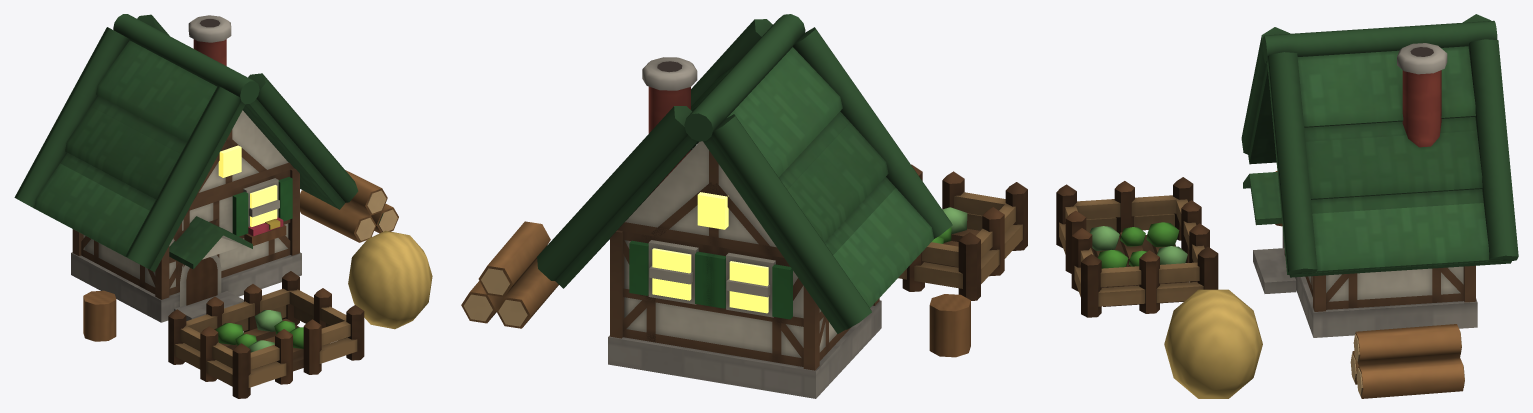
Rendered from homestead_green.glb.
The picture shows the model from 3 angles, left to right: view 1: azimuth 30°, elevation 25°; view 2: azimuth 150°, elevation 25°; view 3: azimuth 270°, elevation 25°; orthographic projection. The views are drawn at different scales.
Visible parts, largest first — view 1: homestead_green; view 2: homestead_green; view 3: homestead_green.
Boxes of the visible parts, bbox=[...] form: homestead_green: bbox=[14, 14, 432, 398]; homestead_green: bbox=[461, 14, 1027, 398]; homestead_green: bbox=[1056, 14, 1518, 398].
Size of the model in its own units: 0.6598 by 0.4712 by 0.6666.
2 materials, 1 textured.
